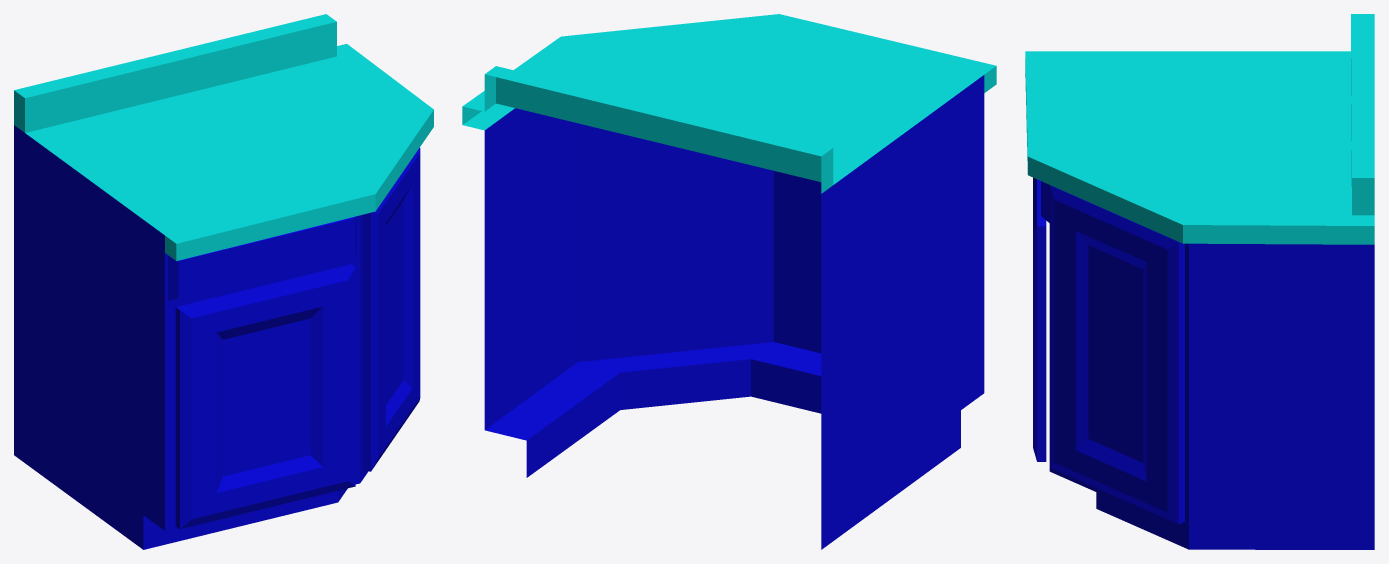
File: Kitchen_CornerCabinet.fbx
3 renders of one model, left to right at view 1: azimuth 30°, elevation 25°; view 2: azimuth 150°, elevation 25°; view 3: azimuth 270°, elevation 25°, orthographic. The views are drawn at different scales.
Visible parts, largest first — view 1: SM_CornerCabinet; view 2: SM_CornerCabinet; view 3: SM_CornerCabinet.
Boxes of the visible parts, x1,y1,x2,y2 form: SM_CornerCabinet: [14, 14, 433, 549]; SM_CornerCabinet: [462, 14, 996, 549]; SM_CornerCabinet: [1025, 14, 1374, 549].
Size of the model in its own units: 107 by 112 by 90.74.
